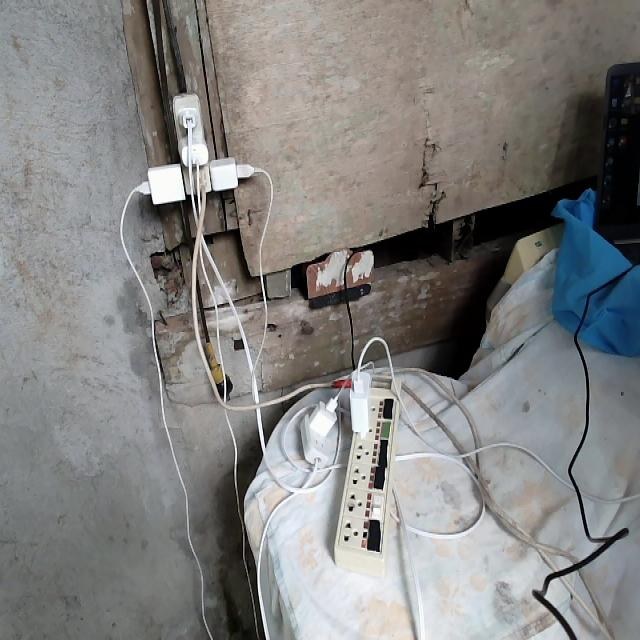-: (127, 92, 248, 208)
